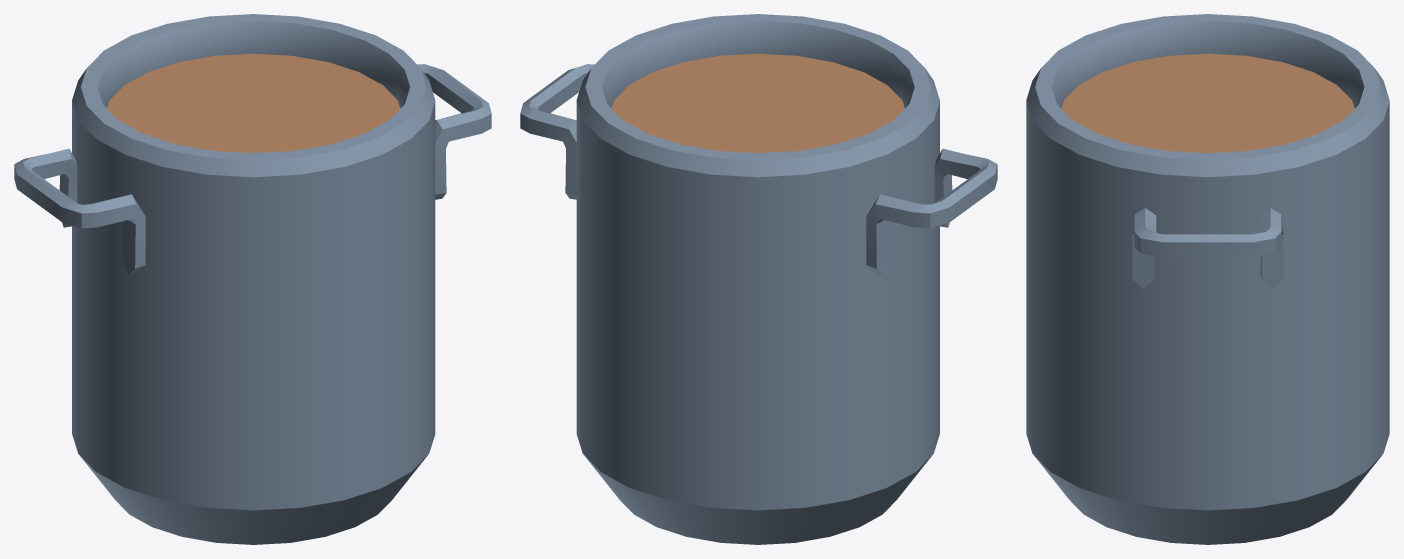
Rendered from quaternius-sushi-restaurant-environment-pot-2-filled.glb.
3 renders of one model, left to right at view 1: azimuth 30°, elevation 25°; view 2: azimuth 150°, elevation 25°; view 3: azimuth 270°, elevation 25°, orthographic.
Visible parts, largest first — view 1: Environment_Pot_2_Filled; view 2: Environment_Pot_2_Filled; view 3: Environment_Pot_2_Filled.
Part boxes in pixels (<box>): Environment_Pot_2_Filled: <box>14,14,491,544</box>; Environment_Pot_2_Filled: <box>520,14,997,544</box>; Environment_Pot_2_Filled: <box>1026,14,1389,544</box>.
Size of the model in its own units: 1.4 by 1.25 by 1.04.
1 material, 1 textured.
